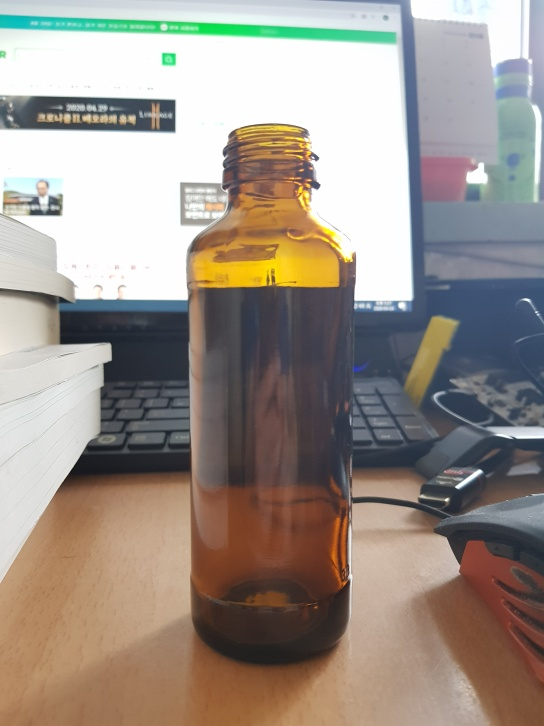Glass: (188, 124, 354, 664)
